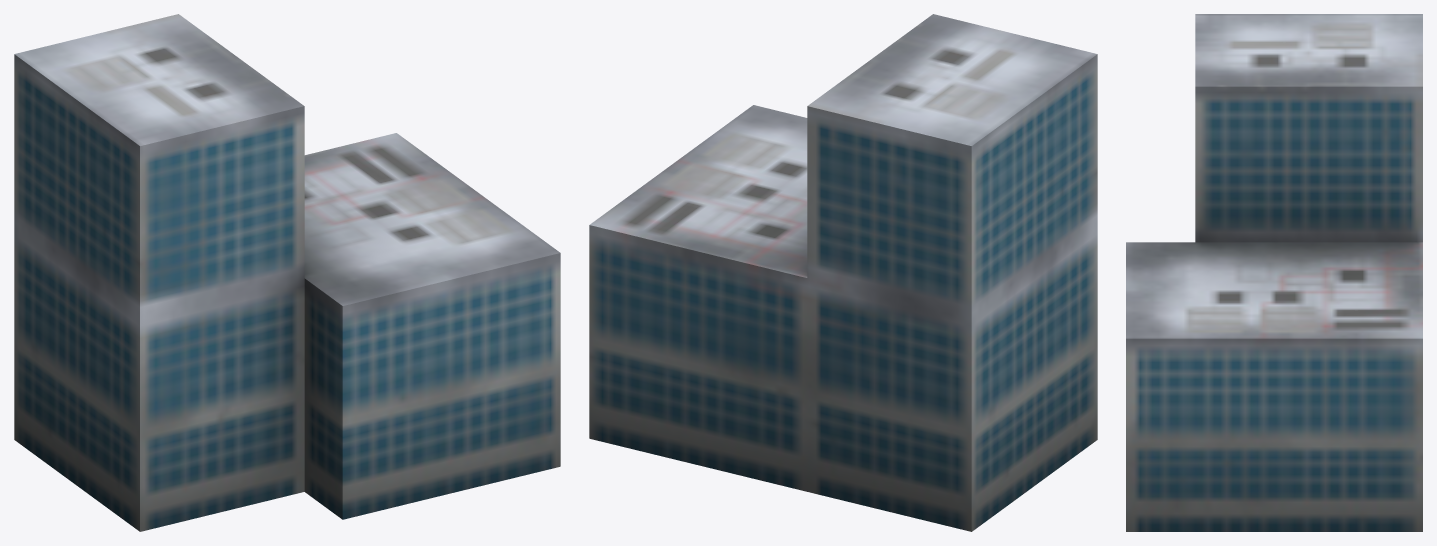
File: buildingL2.FBX
3 views of the same model, side by side, from view 1: azimuth 30°, elevation 25°; view 2: azimuth 150°, elevation 25°; view 3: azimuth 270°, elevation 25° (orthographic). The views are drawn at different scales.
Parts seen in each view (by area): view 1: meshId1_name; view 2: meshId1_name; view 3: meshId1_name.
Part boxes in pixels (x1,y1,x2,y2): meshId1_name: (14,14,560,531); meshId1_name: (589,14,1097,531); meshId1_name: (1126,14,1422,531).
Bounding box in the file's own units: 0.7643 × 0.7368 × 0.568.
